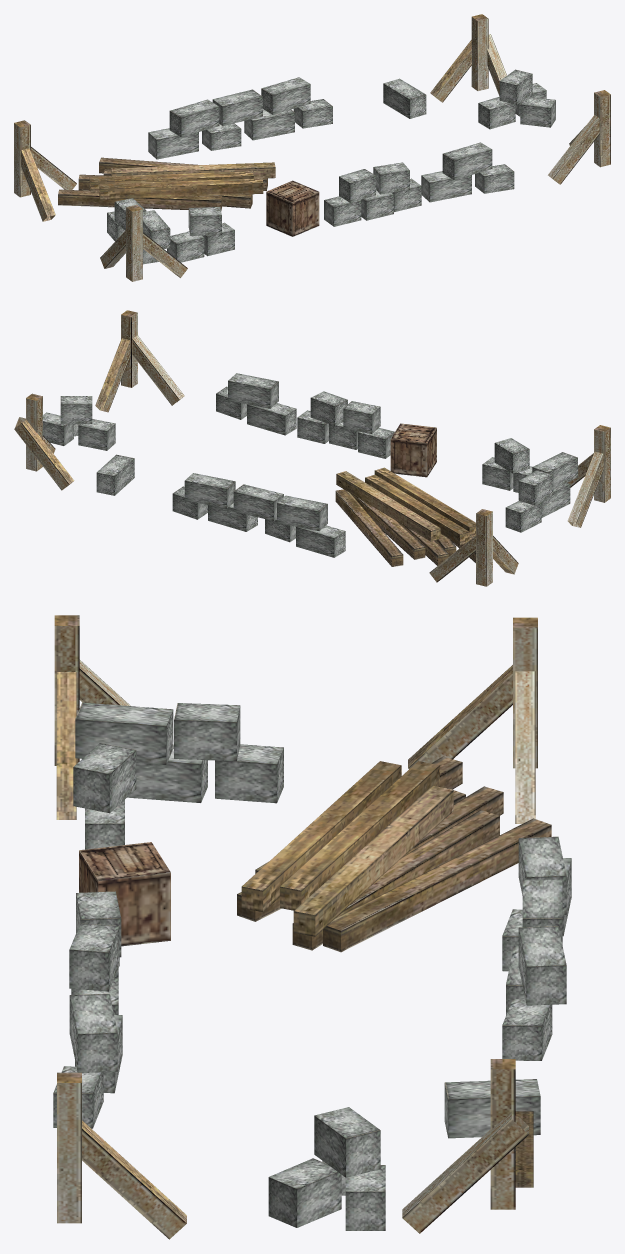
File: found_wall_med_a.dae
The picture shows the model from 3 angles, top to bottom: view 1: azimuth 30°, elevation 25°; view 2: azimuth 150°, elevation 25°; view 3: azimuth 270°, elevation 25°; orthographic projection. The views are drawn at different scales.
Parts seen in each view (by area): view 1: Object14-Pivot; view 2: Object14-Pivot; view 3: Object14-Pivot.
Part boxes in pixels (x1,y1,x2,y2): Object14-Pivot: [14, 14, 610, 281]; Object14-Pivot: [14, 310, 610, 586]; Object14-Pivot: [53, 615, 571, 1239].
Size of the model in its own units: 19.43 by 8.95 by 3.
